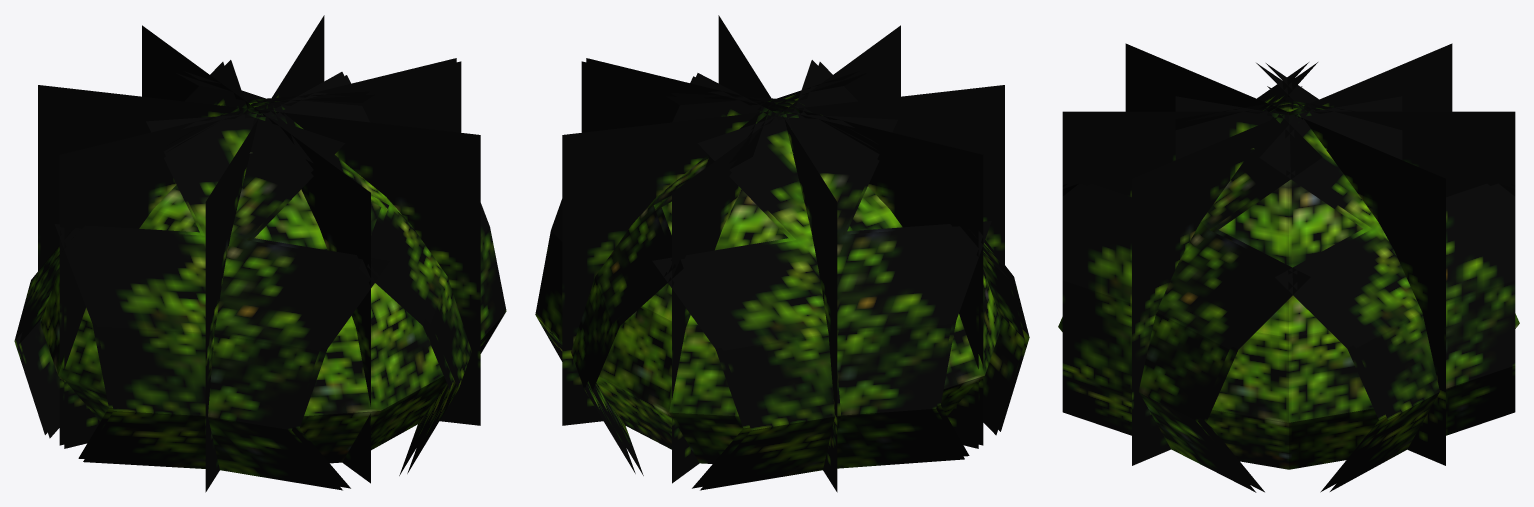
Rendered from bush02.gltf.
3 views of the same model, side by side, from view 1: azimuth 30°, elevation 25°; view 2: azimuth 150°, elevation 25°; view 3: azimuth 270°, elevation 25° (orthographic).
Parts seen in each view (by area): view 1: bush2; view 2: bush2; view 3: bush2.
Part boxes in pixels (left/top/right/bottom): bush2: left=14, top=15, right=506, bottom=492; bush2: left=535, top=15, right=1029, bottom=492; bush2: left=1058, top=43, right=1519, bottom=492.
Bounding box in the file's own units: 1.02 × 0.7 × 1.02.
1 material, 1 textured.
